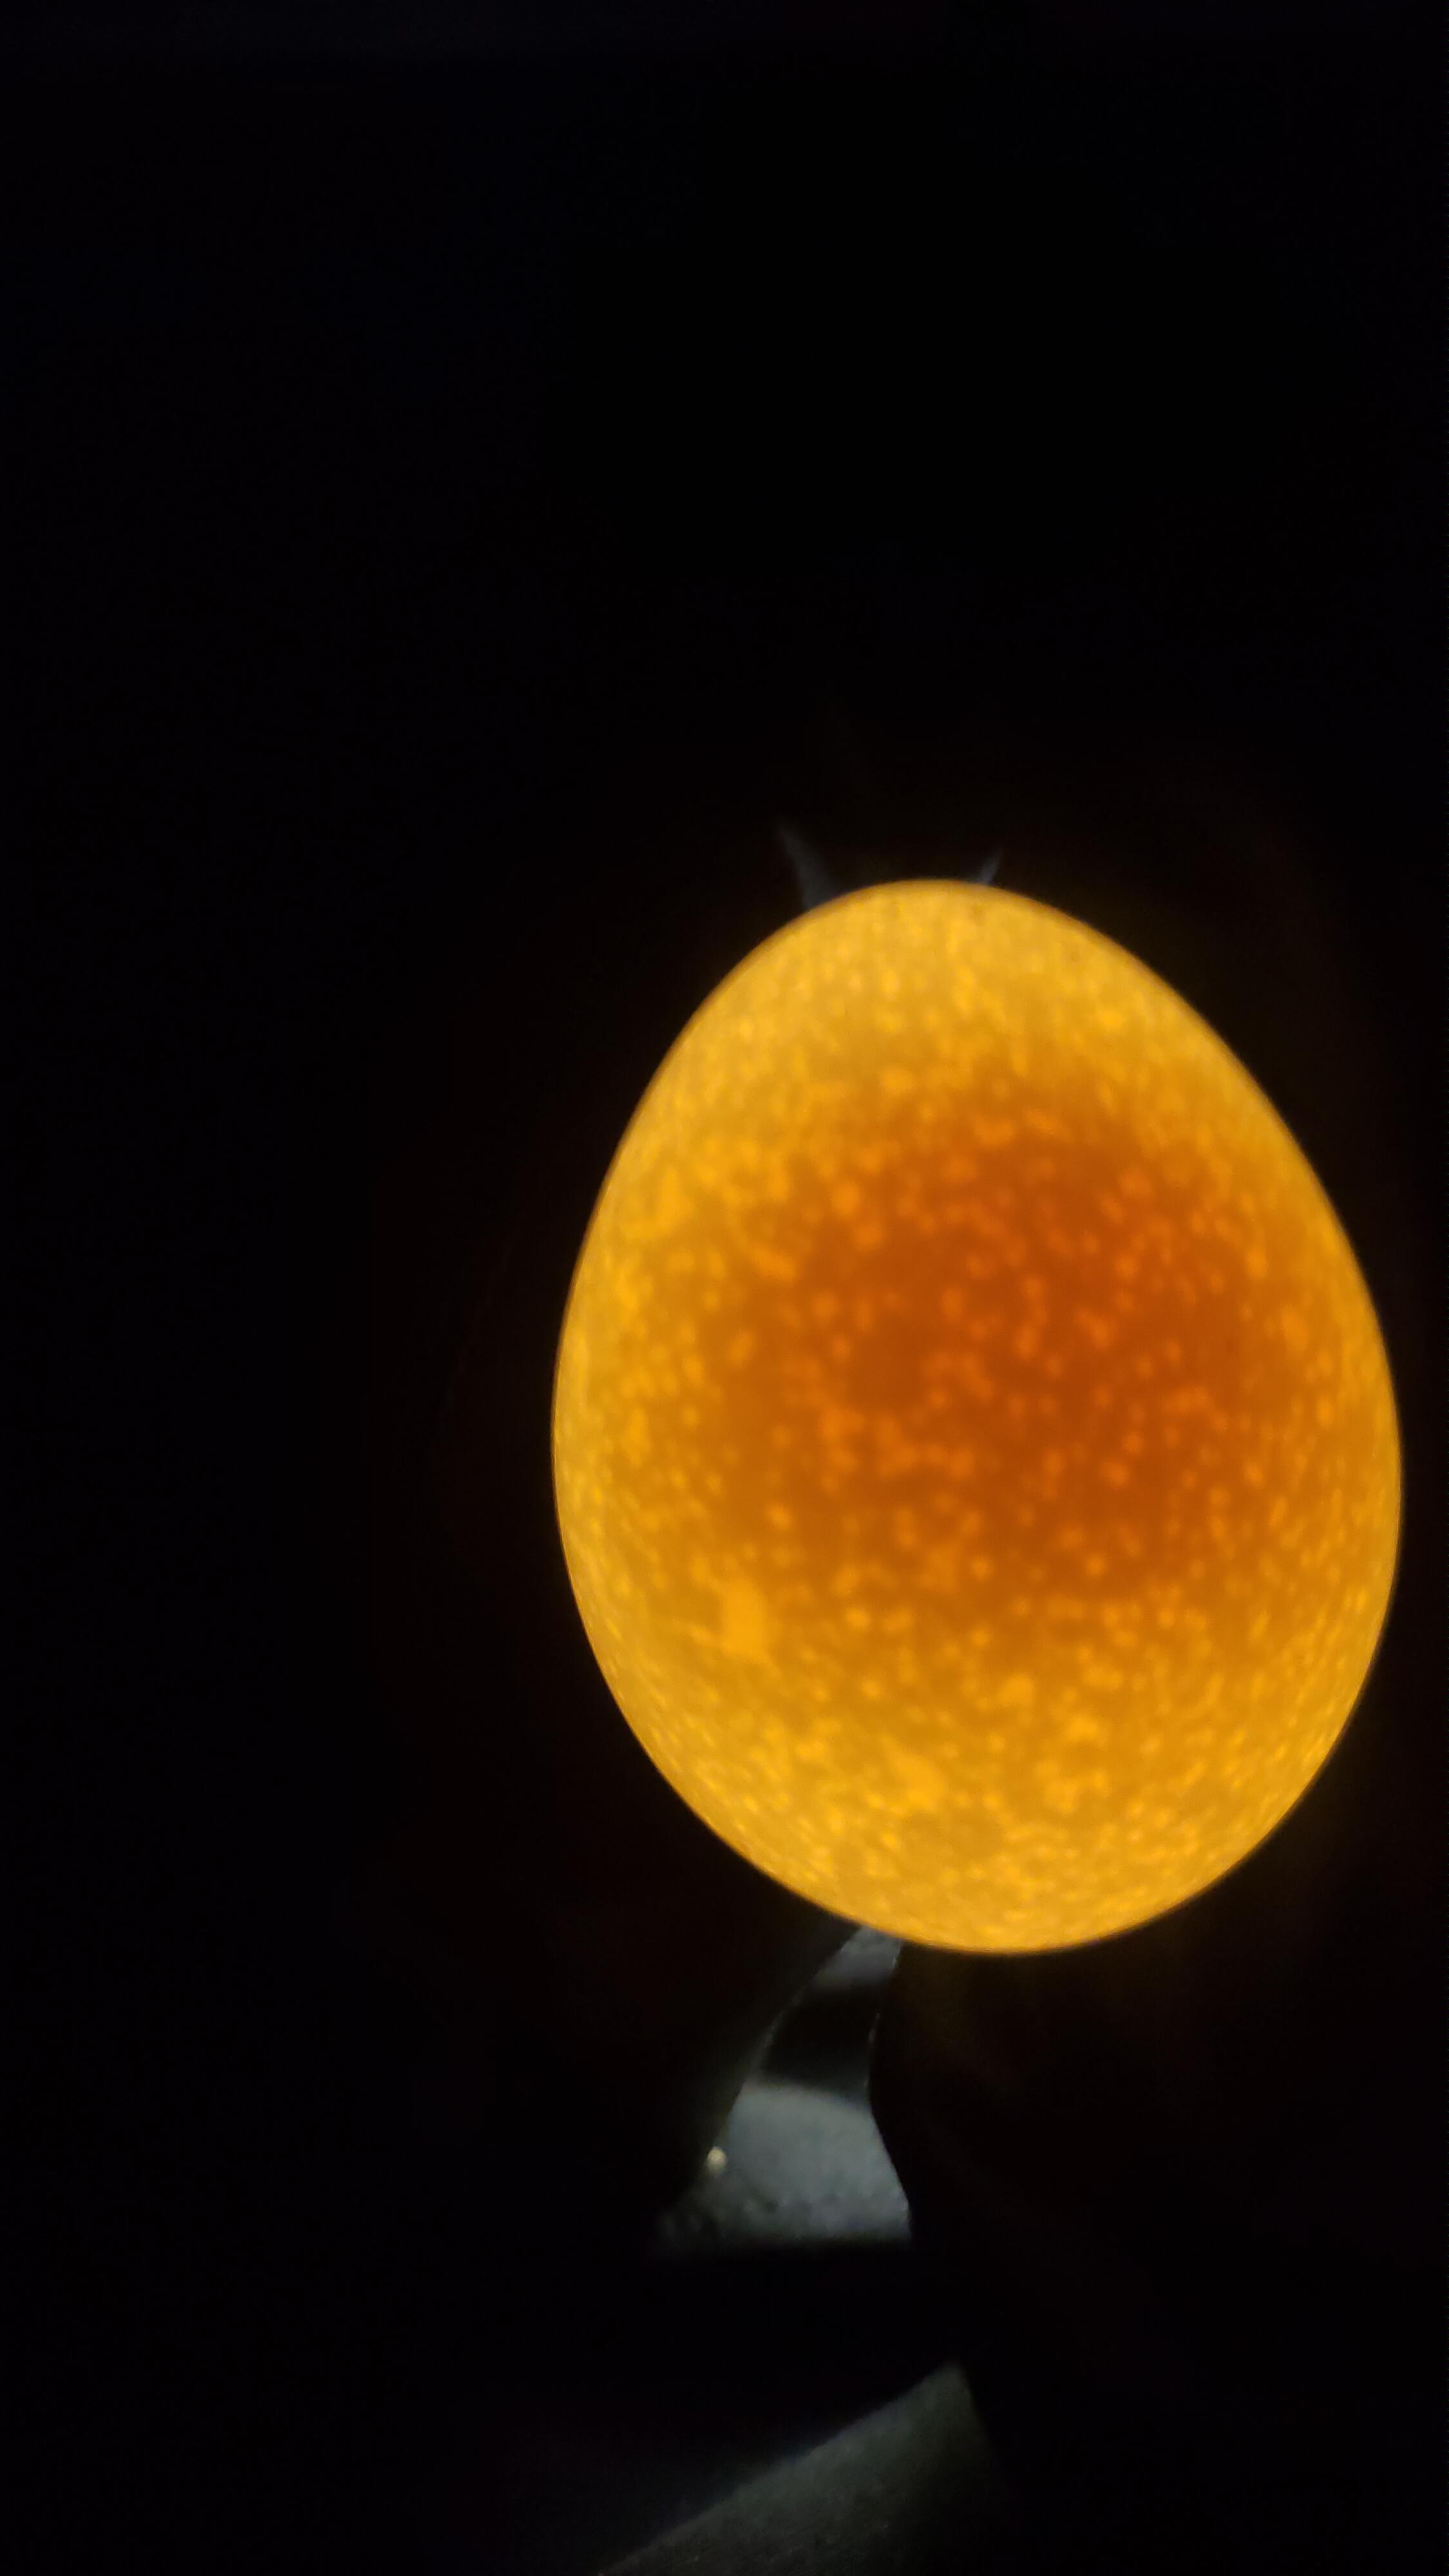A - Good: (476, 817, 1442, 2010)
